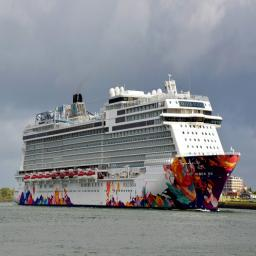cruises: (12, 73, 243, 218)
